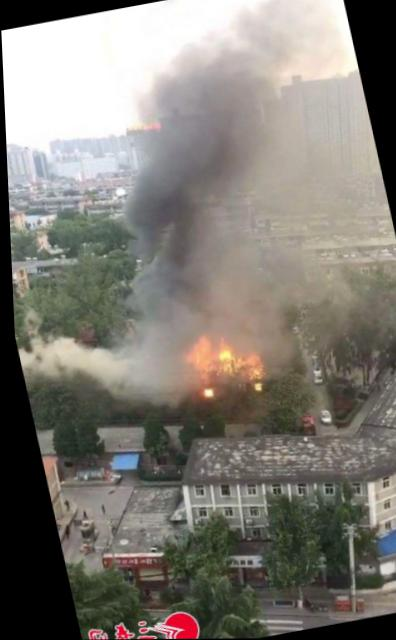fire: (169, 323, 271, 405)
